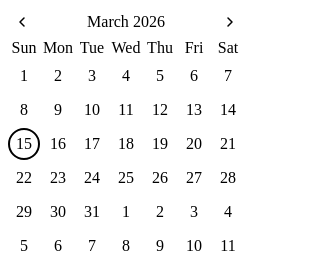
Test: Calendar › navigates to previous month
Click the button named "Previous month" at (22, 22), box top-left (8, 8), bottom-right (36, 36)
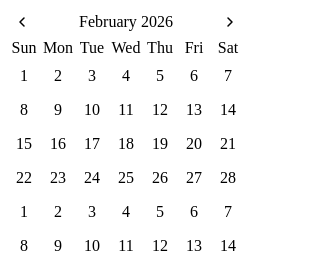
Now the text "February 2026" is shown, box top-left (79, 13), bottom-right (173, 31)
